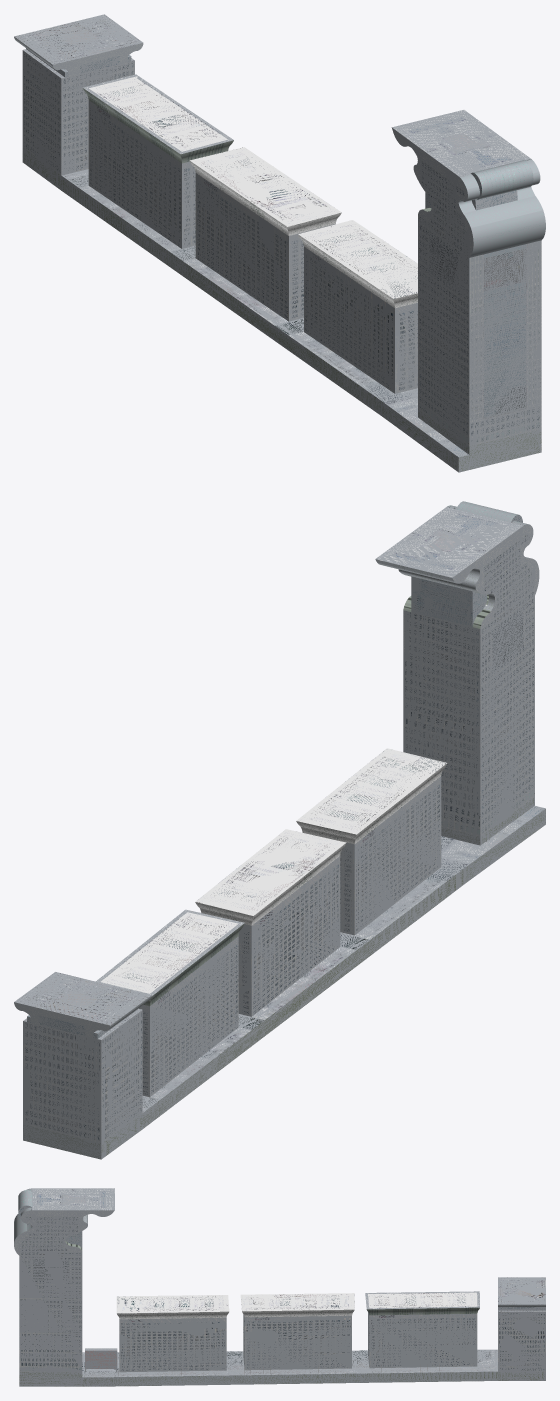
The model's file is Pangu7StarHotel.fbx.
The picture shows the model from 3 angles, top to bottom: view 1: azimuth 30°, elevation 25°; view 2: azimuth 150°, elevation 25°; view 3: azimuth 270°, elevation 25°; orthographic projection. The views are drawn at different scales.
Parts seen in each view (by area): view 1: Model; view 2: Model; view 3: Model.
Boxes of the visible parts, x1,y1,x2,y2 form: Model: (14, 14, 545, 472); Model: (14, 501, 545, 1159); Model: (14, 1188, 545, 1386).
Bounding box in the file's own units: 69.46 × 191 × 515.
